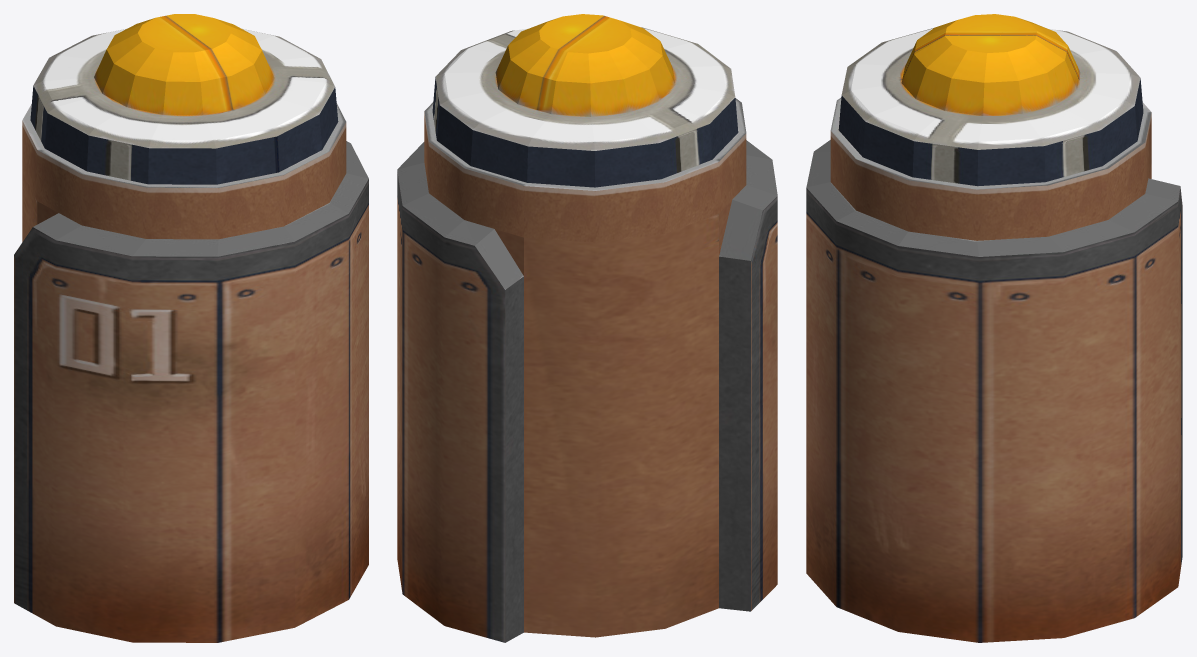
File: desert_tong02.FBX
3 views of the same model, side by side, from view 1: azimuth 30°, elevation 25°; view 2: azimuth 150°, elevation 25°; view 3: azimuth 270°, elevation 25° (orthographic).
Parts seen in each view (by area): view 1: Cylinder013; view 2: Cylinder013; view 3: Cylinder013.
Part boxes in pixels (left/top/right/bottom): Cylinder013: left=14, top=14, right=368, bottom=642; Cylinder013: left=397, top=14, right=777, bottom=642; Cylinder013: left=806, top=14, right=1182, bottom=642.
Size of the model in its own units: 18.85 by 29.18 by 18.73.
